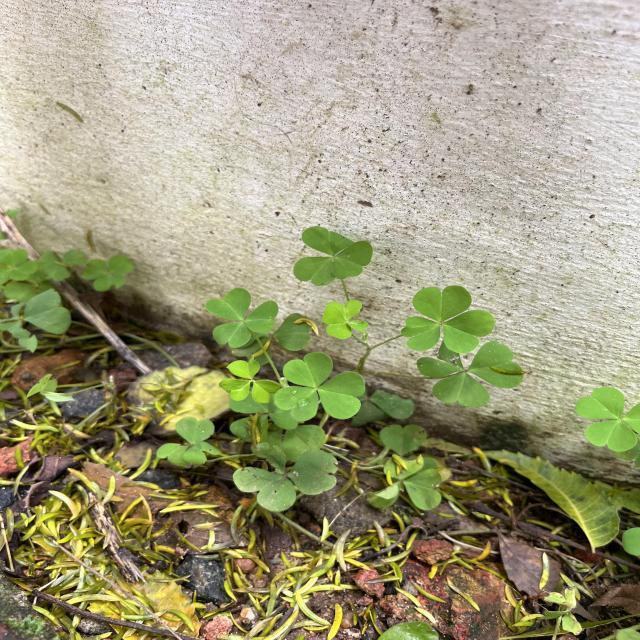Oxalis corniculata: (232, 440, 341, 512), (416, 340, 525, 408), (400, 284, 496, 354), (274, 350, 366, 422), (292, 225, 374, 287), (203, 286, 280, 348), (573, 386, 640, 452), (156, 415, 222, 468), (218, 355, 280, 404), (322, 300, 369, 340)
